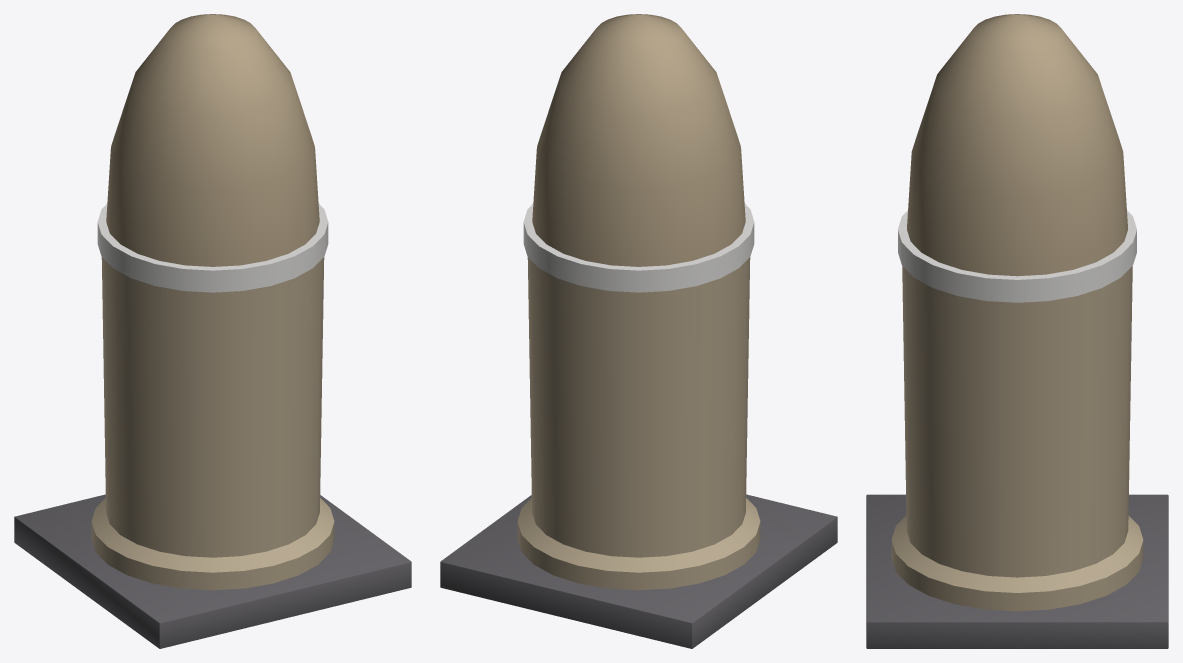
The model's file is perk_hair_trigger.gltf.
The picture shows the model from 3 angles, left to right: view 1: azimuth 30°, elevation 25°; view 2: azimuth 150°, elevation 25°; view 3: azimuth 270°, elevation 25°; orthographic projection. The views are drawn at different scales.
Parts seen in each view (by area): view 1: Body, Glow; view 2: Body, Glow; view 3: Body, Glow.
Part boxes in pixels (x1,y1,x2,y2): Body: (14,14,411,648); Glow: (97,203,328,292); Body: (440,14,837,648); Glow: (523,203,754,292); Body: (866,14,1168,648); Glow: (898,210,1136,302).
Size of the model in its own units: 1.2 by 2.5 by 1.2.
